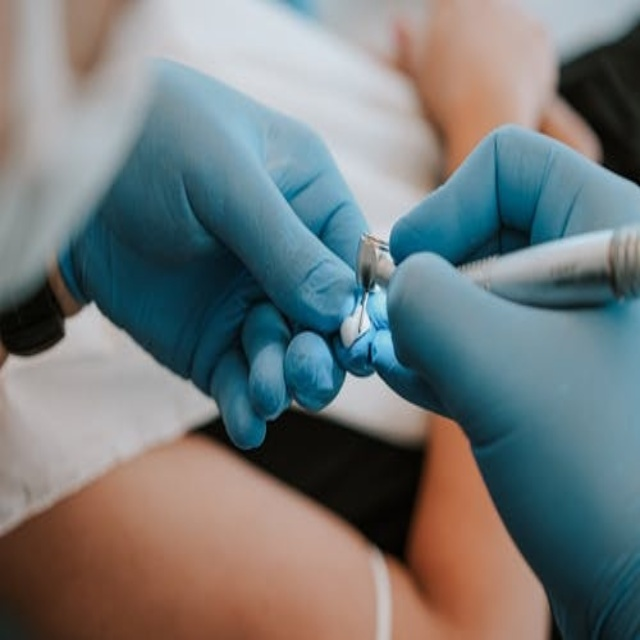Guantes: (49, 58, 361, 473), (389, 115, 631, 623)
